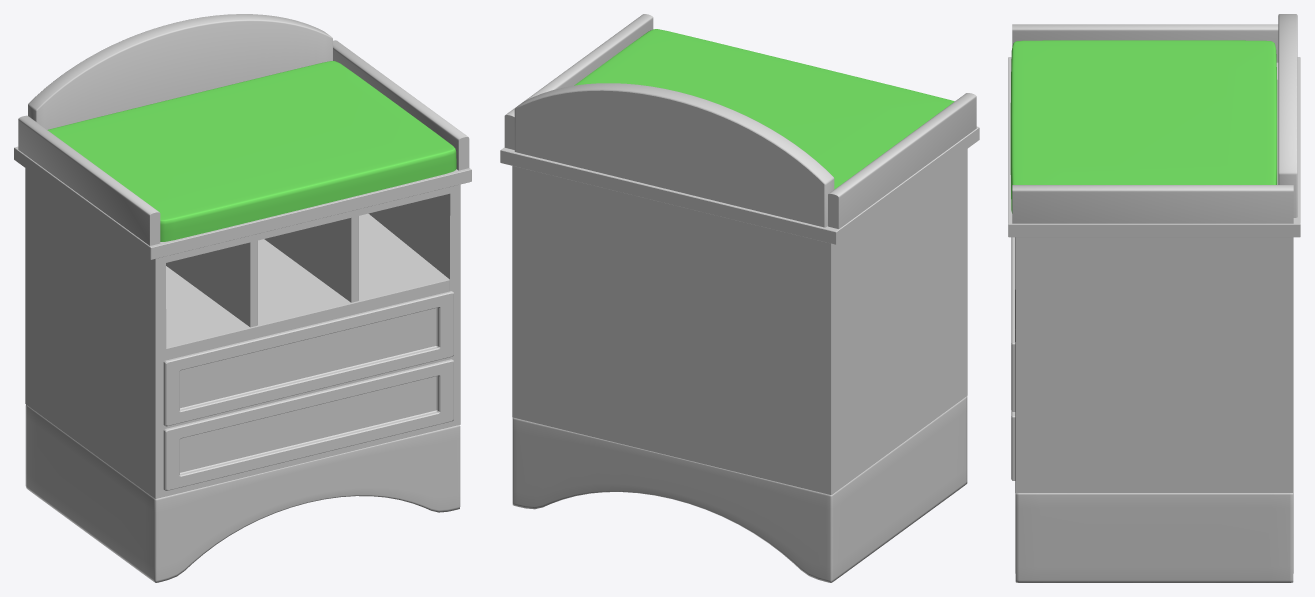
Rendered from Changing_table.fbx.
The picture shows the model from 3 angles, left to right: view 1: azimuth 30°, elevation 25°; view 2: azimuth 150°, elevation 25°; view 3: azimuth 270°, elevation 25°; orthographic projection. The views are drawn at different scales.
Parts seen in each view (by area): view 1: Cube.012; view 2: Cube.012; view 3: Cube.012.
Part boxes in pixels (x1,y1,x2,y2): Cube.012: [14, 14, 471, 582]; Cube.012: [500, 14, 979, 582]; Cube.012: [1008, 14, 1300, 582].
Bounding box in the file's own units: 98.17 × 125 × 72.55.
